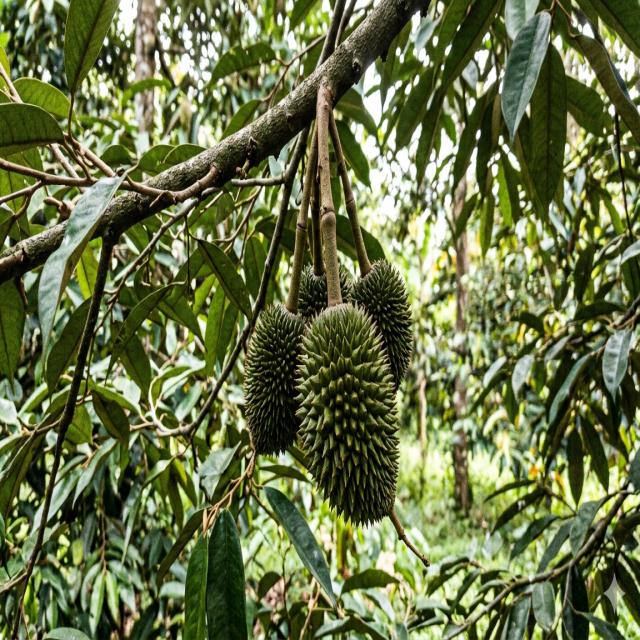immature: (297, 298, 400, 526), (244, 296, 308, 460), (352, 257, 414, 391), (299, 261, 353, 323)
